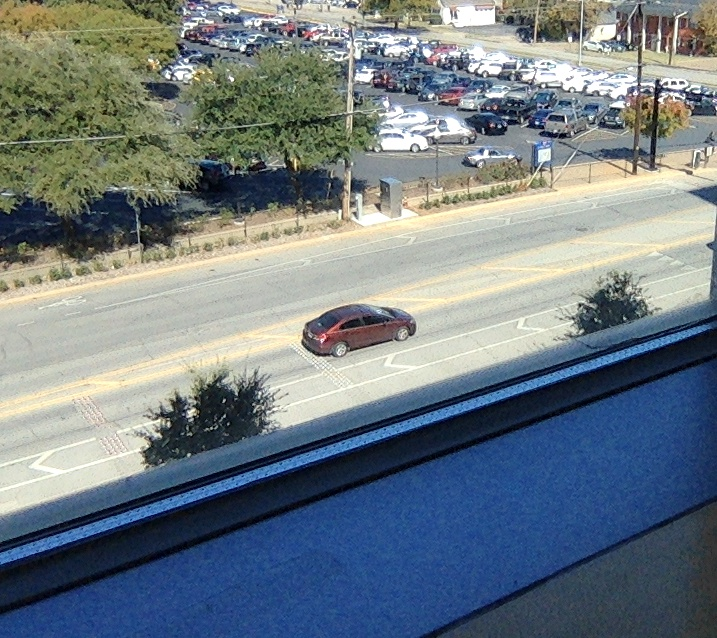car: (300, 300, 417, 360)
